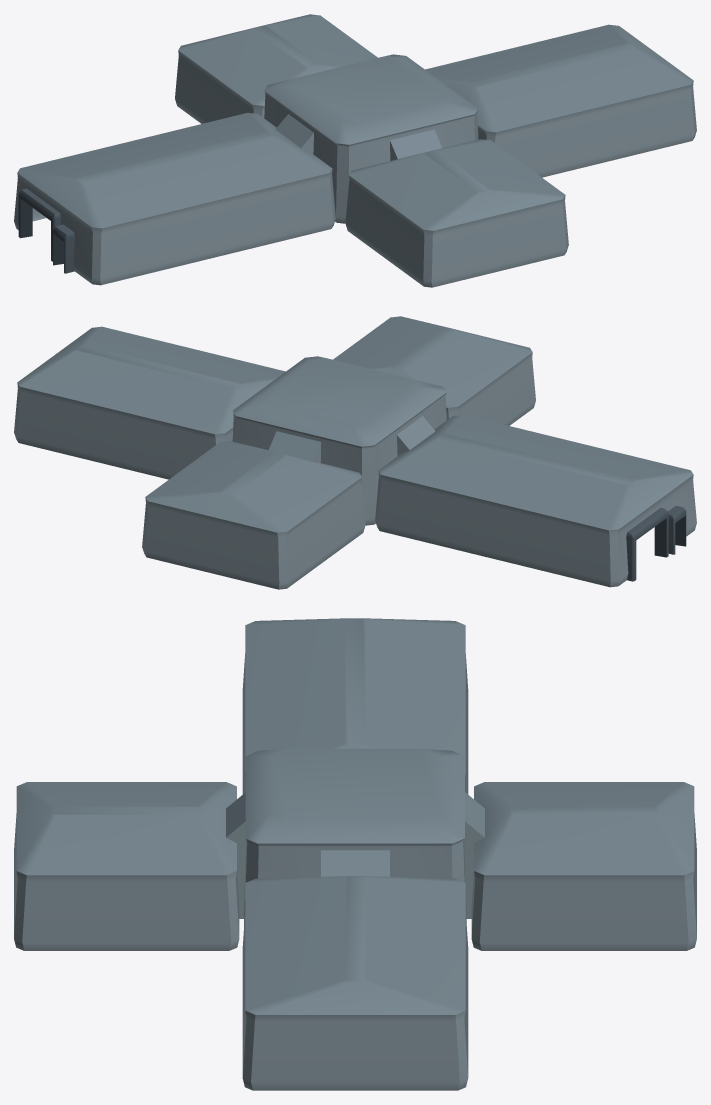
Rendered from arctic_base_exterior_shell_pass1.glb.
3 renders of one model, top to bottom at view 1: azimuth 30°, elevation 25°; view 2: azimuth 150°, elevation 25°; view 3: azimuth 270°, elevation 25°, orthographic. The views are drawn at different scales.
Parts seen in each view (by area): view 1: Base_ExteriorShell_Mesh; view 2: Base_ExteriorShell_Mesh; view 3: Base_ExteriorShell_Mesh.
Boxes of the visible parts, x1,y1,x2,y2 form: Base_ExteriorShell_Mesh: (14,14,696,287); Base_ExteriorShell_Mesh: (14,316,696,589); Base_ExteriorShell_Mesh: (14,618,696,1090).
Bounding box in the file's own units: 74.77 × 10.39 × 53.74.
